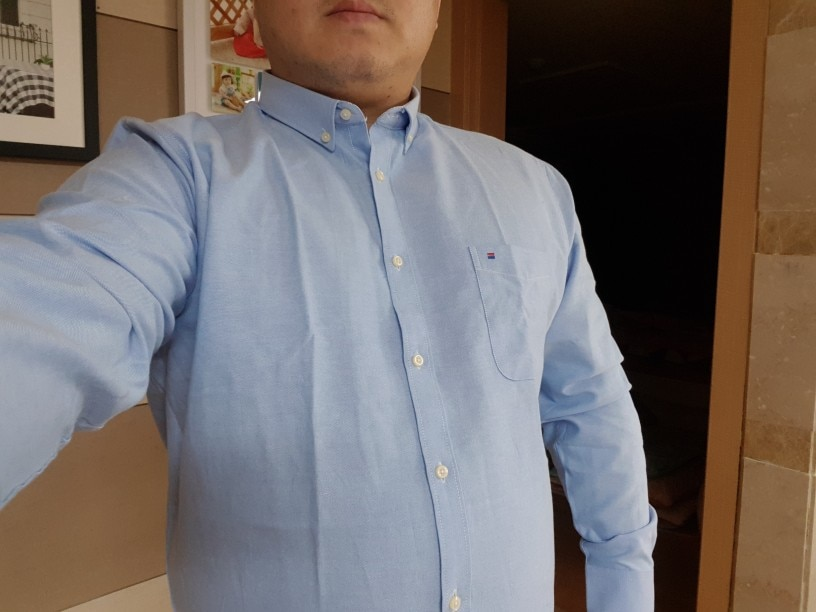shirts: (4, 78, 655, 612)
